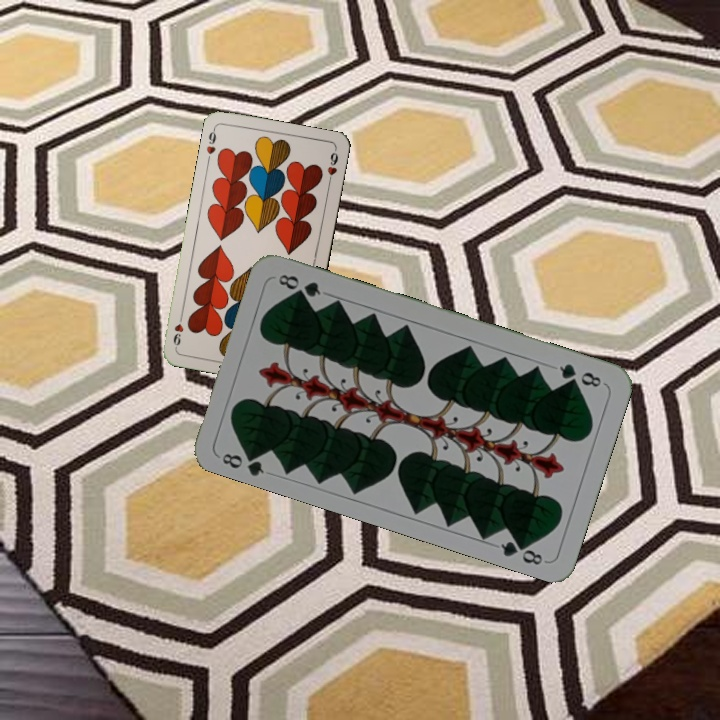G8: (218, 445, 267, 478), (555, 359, 607, 390)
H9: (202, 124, 219, 157)
